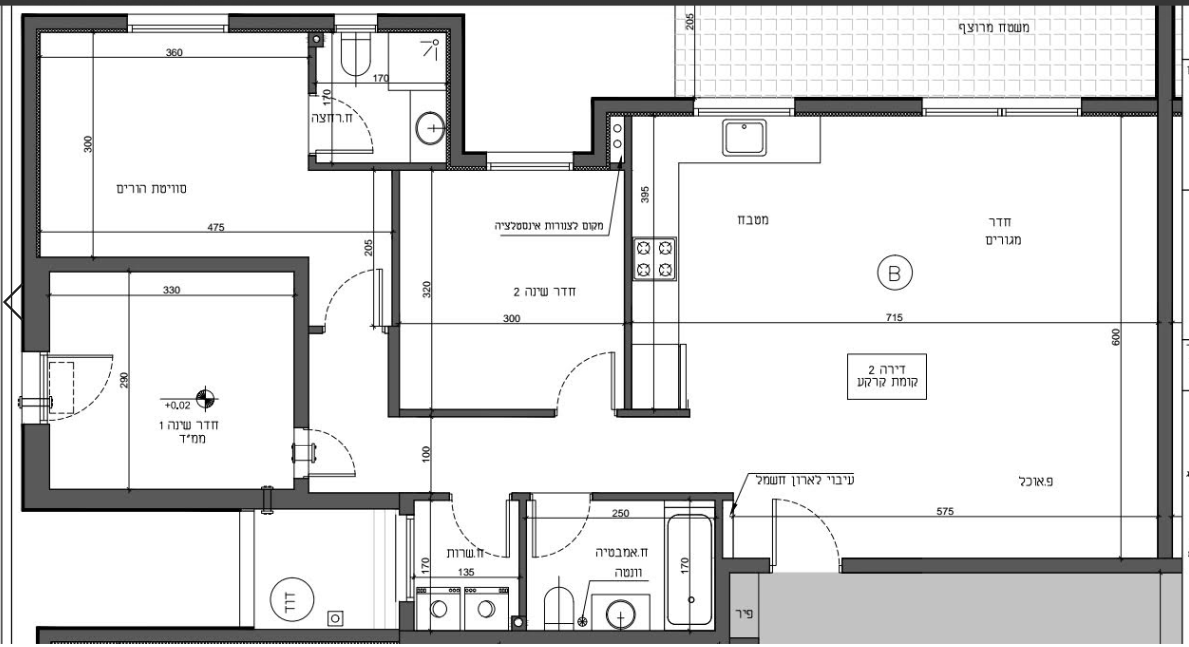door: (19, 347, 114, 427), (287, 414, 382, 494), (302, 262, 397, 342), (537, 343, 632, 423), (425, 475, 520, 555), (519, 480, 614, 560), (760, 492, 855, 572), (284, 86, 379, 166)
wall: (24, 617, 400, 647), (27, 486, 402, 516), (1156, 238, 1176, 572), (18, 14, 38, 348), (1158, 2, 1178, 336)
window: (118, 13, 243, 32), (466, 149, 591, 168), (681, 96, 806, 115), (932, 96, 1057, 115)
